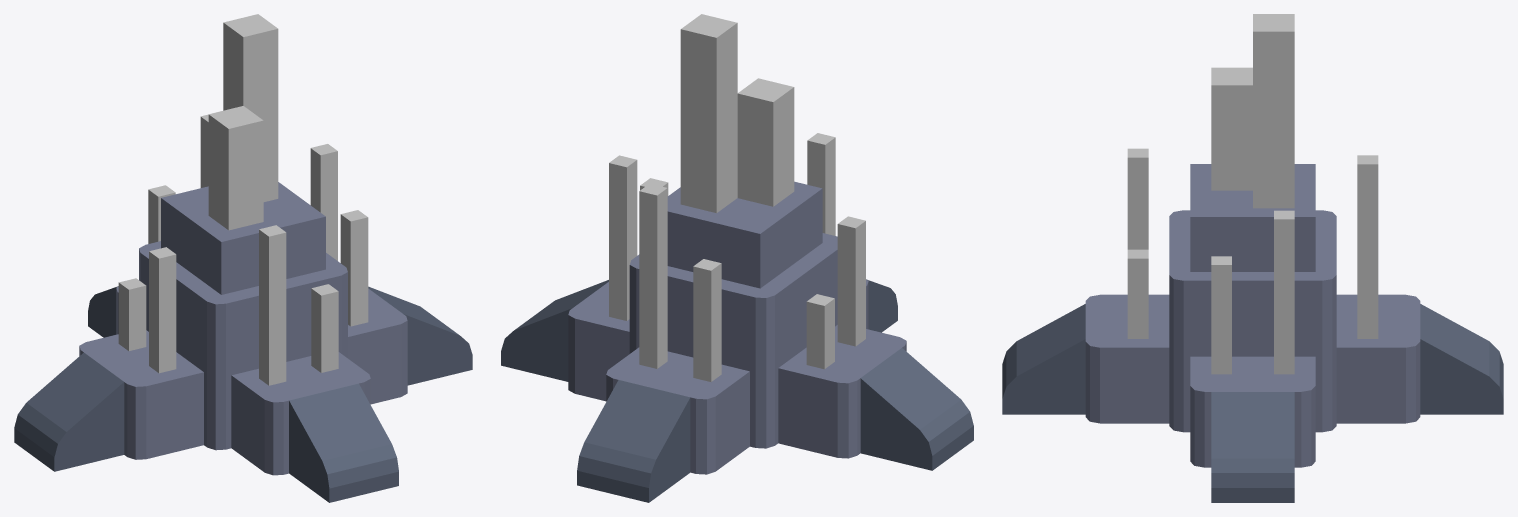
File: factory.fbx
3 views of the same model, side by side, from view 1: azimuth 30°, elevation 25°; view 2: azimuth 150°, elevation 25°; view 3: azimuth 270°, elevation 25° (orthographic). The views are drawn at different scales.
Visible parts, largest first — view 1: factory; view 2: factory; view 3: factory.
Part boxes in pixels (<box>): factory: <box>14,14,472,502</box>; factory: <box>501,14,973,502</box>; factory: <box>1002,14,1503,502</box>.
Size of the model in its own units: 600 by 506 by 600.
